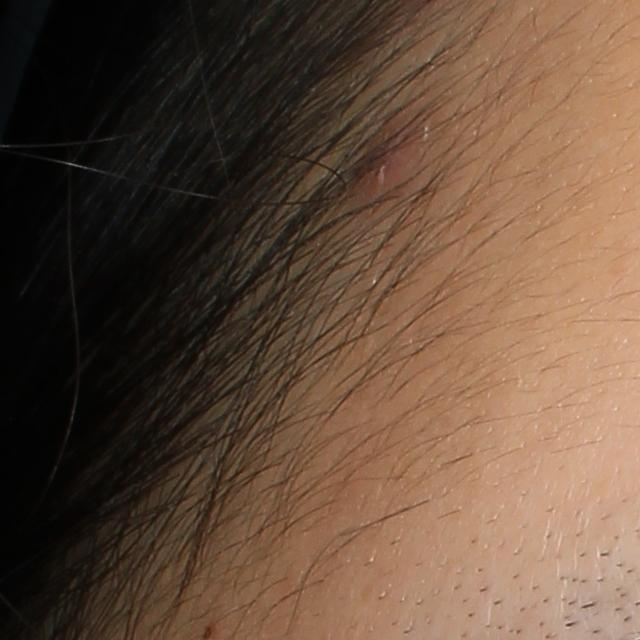papule: (350, 121, 427, 196)
